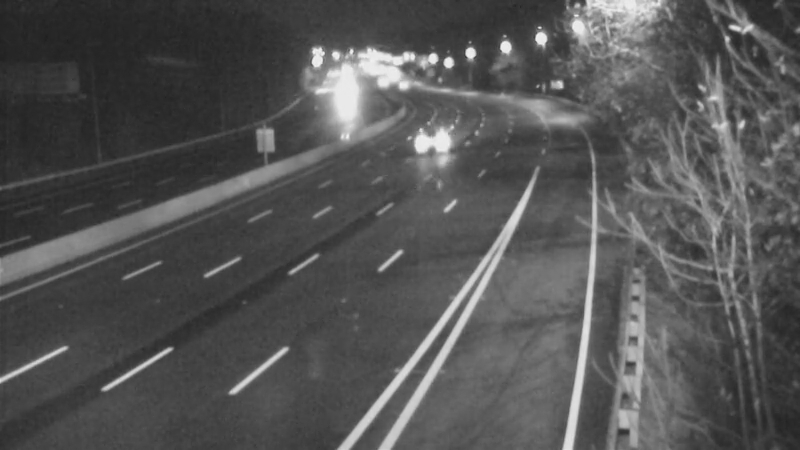vehicle: (420, 113, 470, 163)
